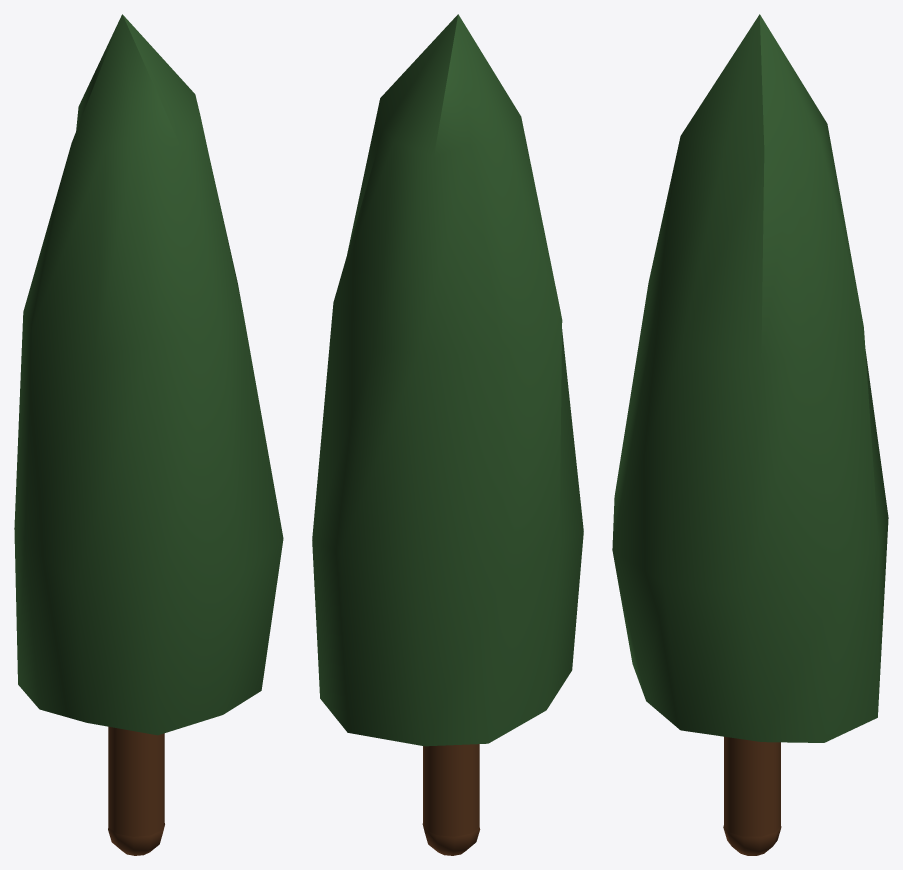
File: tree_b.fbx
3 views of the same model, side by side, from view 1: azimuth 30°, elevation 25°; view 2: azimuth 150°, elevation 25°; view 3: azimuth 270°, elevation 25° (orthographic).
Parts seen in each view (by area): view 1: tree_b; view 2: tree_b; view 3: tree_b.
Part boxes in pixels (<box>): tree_b: <box>14,14,283,855</box>; tree_b: <box>312,14,583,855</box>; tree_b: <box>612,14,888,855</box>.
Bounding box in the file's own units: 1.24 × 4.19 × 1.26.
